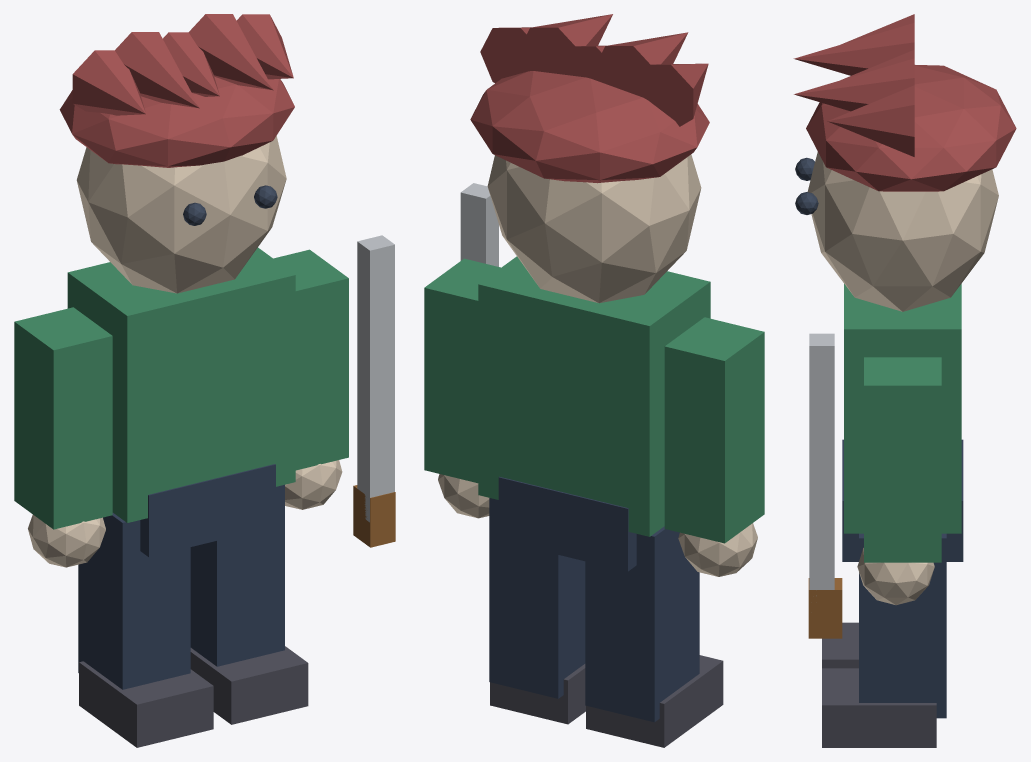
File: tanjiro.glb
3 views of the same model, side by side, from view 1: azimuth 30°, elevation 25°; view 2: azimuth 150°, elevation 25°; view 3: azimuth 270°, elevation 25° (orthographic). The views are drawn at different scales.
Parts seen in each view (by area): view 1: part_000, part_010, part_002, part_004, part_013, part_008, part_006, part_020, part_001, part_005, part_009, part_014 (+7 smaller); view 2: part_000, part_010, part_002, part_013, part_004, part_008, part_006, part_001, part_005, part_017, part_015, part_014 (+6 smaller); view 3: part_010, part_006, part_013, part_000, part_008, part_020, part_009, part_018, part_015, part_017, part_007, part_019 (+3 smaller).
Boxes of the visible parts, bbox=[...] form: part_000: bbox=[67, 247, 295, 522]; part_010: bbox=[76, 136, 286, 293]; part_002: bbox=[14, 307, 112, 529]; part_004: bbox=[78, 513, 190, 689]; part_013: bbox=[59, 76, 294, 167]; part_008: bbox=[190, 484, 284, 666]; part_006: bbox=[273, 249, 348, 470]; part_020: bbox=[357, 235, 394, 522]; part_001: bbox=[140, 464, 275, 557]; part_005: bbox=[79, 661, 213, 747]; part_009: bbox=[190, 646, 308, 724]; part_014: bbox=[72, 50, 145, 115]; part_000: bbox=[478, 256, 710, 536]; part_010: bbox=[487, 154, 701, 303]; part_002: bbox=[664, 317, 764, 543]; part_013: bbox=[470, 71, 709, 183]; part_004: bbox=[585, 526, 699, 722]; part_008: bbox=[489, 498, 585, 698]; part_006: bbox=[424, 258, 500, 483]; part_001: bbox=[498, 476, 636, 571]; part_005: bbox=[586, 655, 723, 747]; part_017: bbox=[518, 14, 612, 76]; part_015: bbox=[593, 32, 688, 102]; part_014: bbox=[630, 63, 708, 126]; part_010: bbox=[807, 151, 998, 311]; part_006: bbox=[864, 357, 941, 562]; part_013: bbox=[806, 65, 1016, 191]; part_000: bbox=[844, 284, 961, 533]; part_008: bbox=[859, 533, 946, 718]; part_020: bbox=[809, 333, 834, 595]; part_009: bbox=[822, 668, 936, 747]; part_018: bbox=[827, 85, 914, 156]; part_015: bbox=[793, 22, 914, 75]; part_017: bbox=[794, 58, 914, 111]; part_007: bbox=[857, 548, 934, 605]; part_019: bbox=[808, 578, 842, 638].
Size of the model in its own units: 1.08 by 2.17 by 0.6628.
